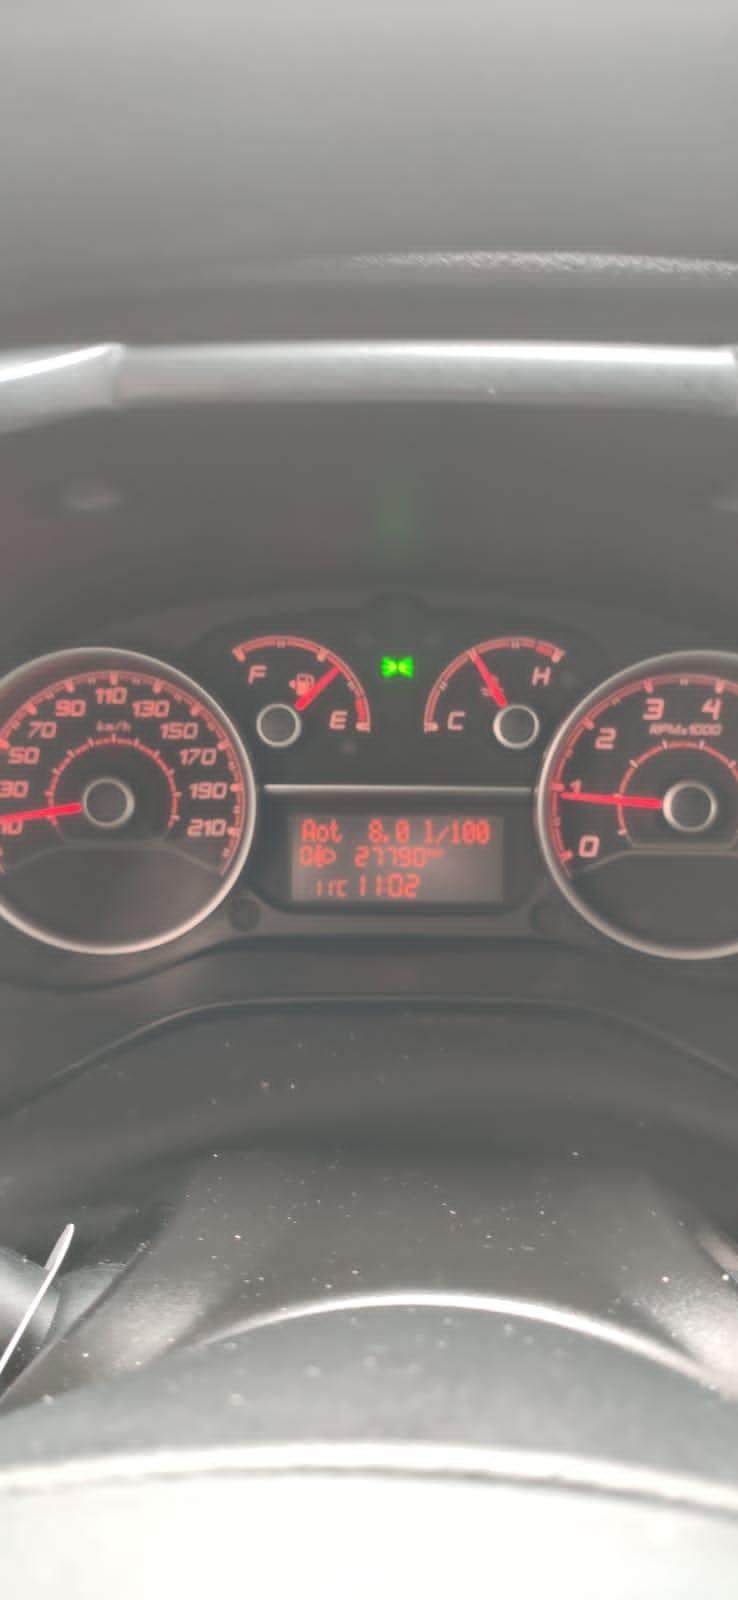,: (383, 833, 390, 843)
0: (386, 871, 403, 897), (394, 818, 410, 844), (475, 820, 491, 845), (411, 846, 427, 869), (461, 819, 475, 844), (298, 845, 313, 865)
1: (357, 872, 368, 897), (451, 817, 459, 844), (373, 873, 382, 897), (326, 878, 333, 898), (314, 879, 322, 896)
2: (352, 844, 370, 867), (404, 872, 419, 899)
7: (371, 844, 385, 865), (386, 845, 397, 866)
8: (368, 819, 382, 842)
9: (398, 845, 411, 868)
X: (301, 817, 316, 842), (329, 817, 342, 844), (422, 815, 433, 845), (435, 826, 450, 845), (316, 822, 329, 842), (336, 879, 347, 897), (435, 847, 443, 857), (428, 847, 435, 857)
odometer: (277, 803, 512, 911)
